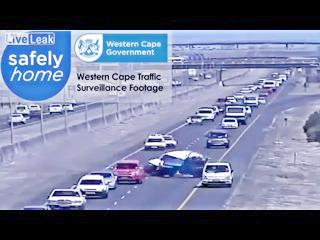Car: (162, 153, 208, 181), (147, 150, 200, 174), (47, 188, 87, 210), (76, 174, 109, 199), (113, 160, 145, 184), (204, 163, 233, 187), (204, 130, 230, 149), (225, 105, 246, 123), (144, 134, 167, 150), (162, 134, 178, 149), (8, 113, 28, 124), (221, 117, 239, 129), (198, 108, 216, 118), (186, 115, 204, 125), (15, 105, 30, 116), (28, 104, 42, 115), (48, 104, 63, 114), (215, 97, 227, 108), (263, 80, 276, 89), (233, 93, 246, 101), (225, 96, 237, 104), (63, 104, 74, 112), (258, 96, 267, 104), (245, 106, 252, 116), (172, 80, 182, 86), (204, 73, 212, 79), (191, 76, 199, 81)
Major Accident: (146, 150, 209, 183)
